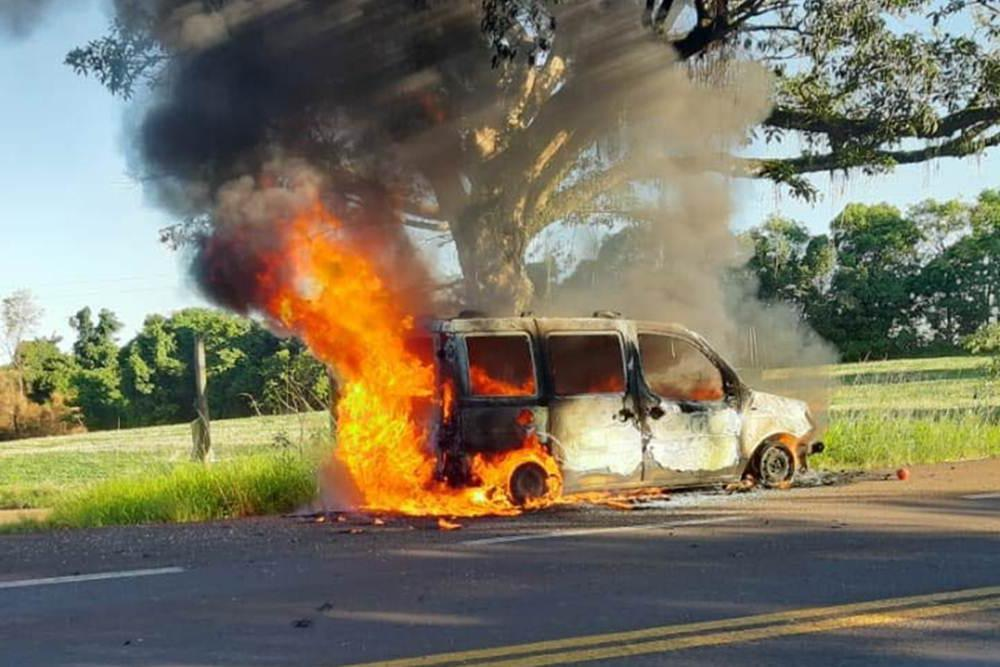Fire: (275, 203, 660, 520)
